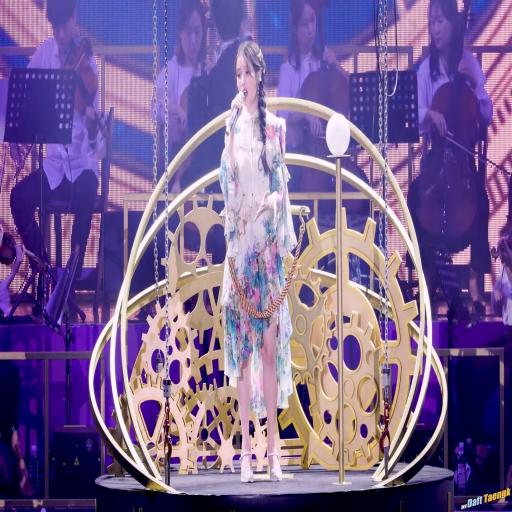IU: (235, 40, 266, 108)
